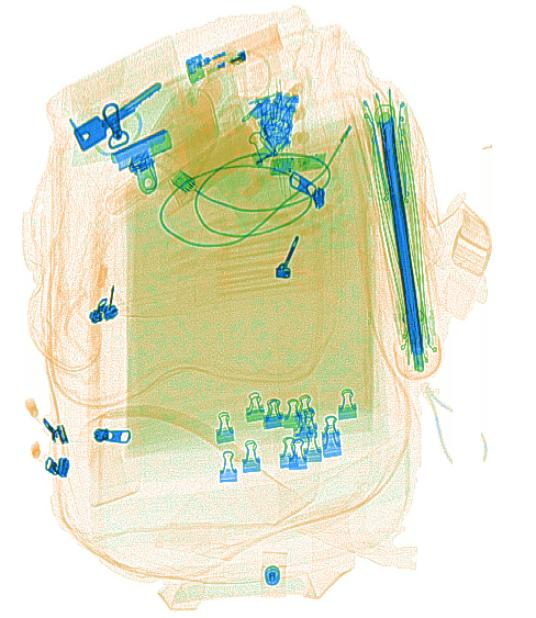USBFlashDisk: (265, 152, 325, 177)
lighter: (183, 23, 283, 83)
